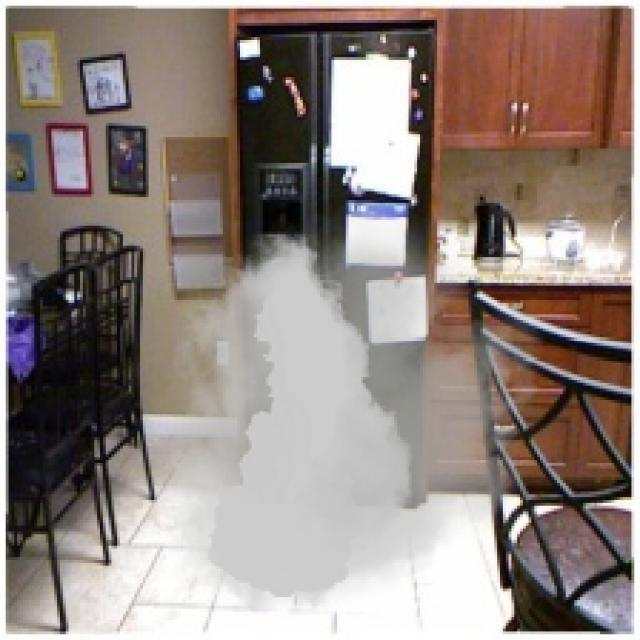Smoke: (137, 205, 563, 626)
